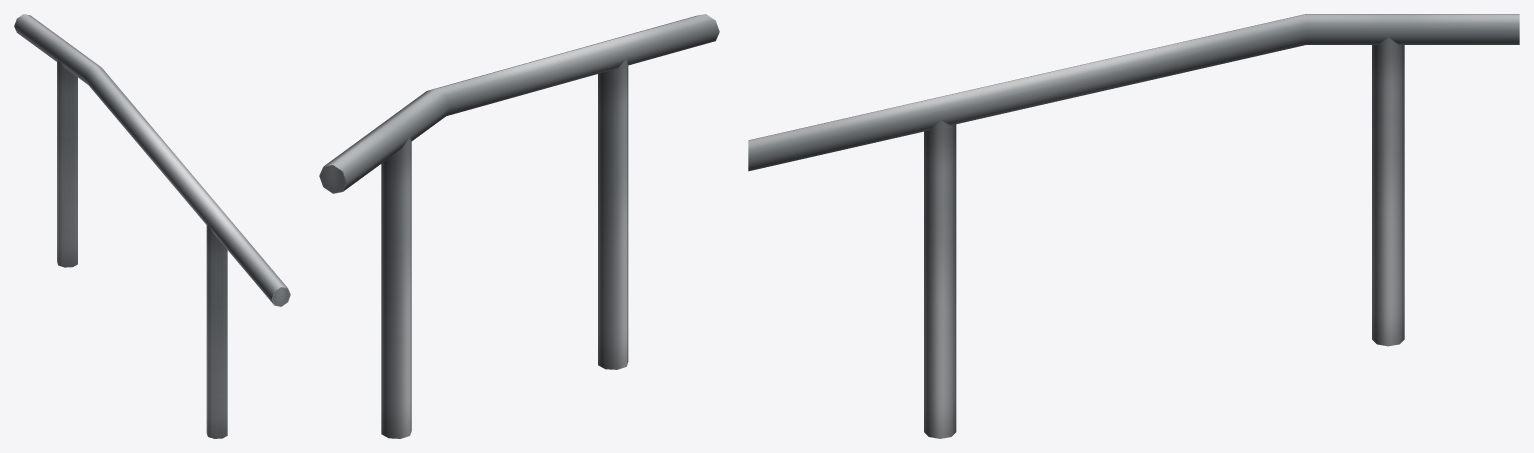
Rendered from set_handrail_slope_start.fbx.
3 renders of one model, left to right at view 1: azimuth 30°, elevation 25°; view 2: azimuth 150°, elevation 25°; view 3: azimuth 270°, elevation 25°, orthographic. The views are drawn at different scales.
Parts seen in each view (by area): view 1: set_handrail_slope_start; view 2: set_handrail_slope_start; view 3: set_handrail_slope_start.
Part boxes in pixels (x1,y1,x2,y2): set_handrail_slope_start: [14, 14, 290, 438]; set_handrail_slope_start: [319, 14, 719, 438]; set_handrail_slope_start: [748, 14, 1519, 438].
Size of the model in its own units: 6.29 by 87.56 by 147.
